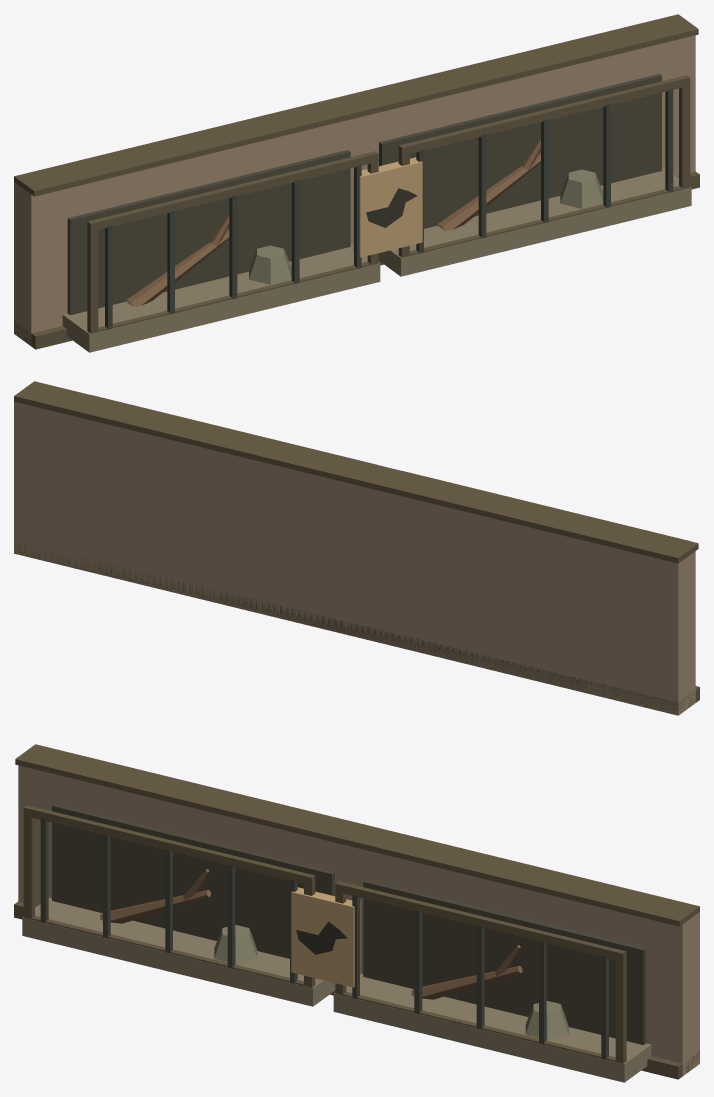
Rendered from ZO_WallB.glb.
3 renders of one model, top to bottom at view 1: azimuth 30°, elevation 25°; view 2: azimuth 150°, elevation 25°; view 3: azimuth 330°, elevation 25°, orthographic.
Visible parts, largest first — view 1: ZO_WallB; view 2: ZO_WallB; view 3: ZO_WallB.
Part boxes in pixels (x1,y1,x2,y2): ZO_WallB: (14, 14, 699, 352); ZO_WallB: (14, 381, 699, 715); ZO_WallB: (14, 744, 699, 1082).
Bounding box in the file's own units: 64 × 14.5 × 7.63.
Materials: 1 (1 with a texture image).
